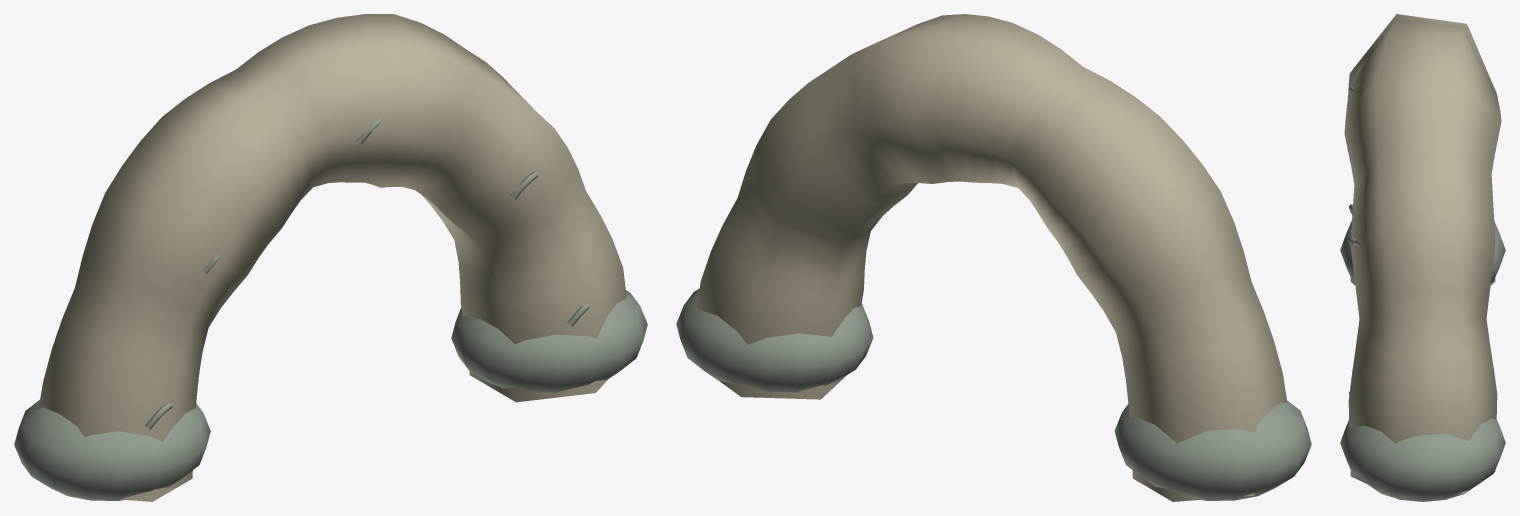
File: sea_arch.glb
3 renders of one model, left to right at view 1: azimuth 30°, elevation 25°; view 2: azimuth 150°, elevation 25°; view 3: azimuth 270°, elevation 25°, orthographic. The views are drawn at different scales.
Parts seen in each view (by area): view 1: Pigment_b7af98, Pigment_8e998c; view 2: Pigment_b7af98, Pigment_8e998c; view 3: Pigment_b7af98, Pigment_8e998c.
Part boxes in pixels (x1,y1,x2,y2): Pigment_b7af98: (38, 14, 626, 501); Pigment_8e998c: (14, 119, 647, 500); Pigment_b7af98: (697, 14, 1287, 501); Pigment_8e998c: (676, 288, 1311, 500); Pigment_b7af98: (1344, 14, 1501, 496); Pigment_8e998c: (1340, 86, 1505, 501).
Size of the model in its own units: 9.24 by 5.72 by 2.4.
